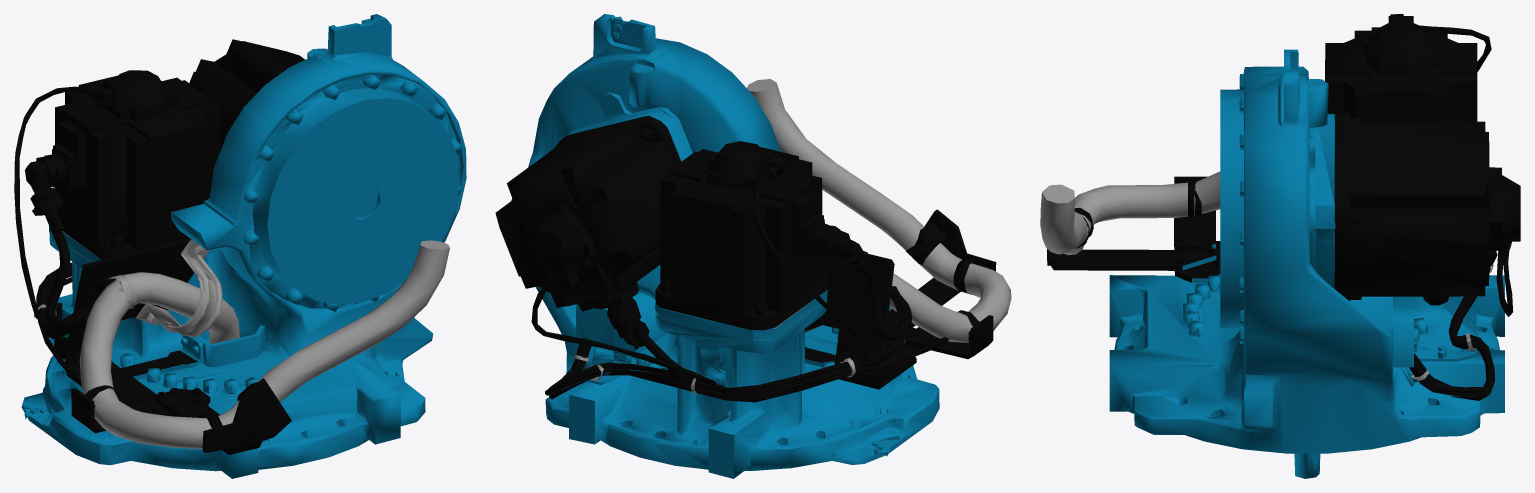
The picture shows the model from 3 angles, left to right: view 1: azimuth 30°, elevation 25°; view 2: azimuth 150°, elevation 25°; view 3: azimuth 270°, elevation 25°; orthographic projection. The views are drawn at different scales.
Parts seen in each view (by area): view 1: gp20hl_lk1; view 2: gp20hl_lk1; view 3: gp20hl_lk1.
Boxes of the visible parts, x1=… form: gp20hl_lk1: x1=14, y1=14, x2=466, y2=478; gp20hl_lk1: x1=495, y1=14, x2=1011, y2=478; gp20hl_lk1: x1=1040, y1=14, x2=1520, y2=478.
Size of the model in its own units: 0.6044 by 0.5688 by 0.541.
